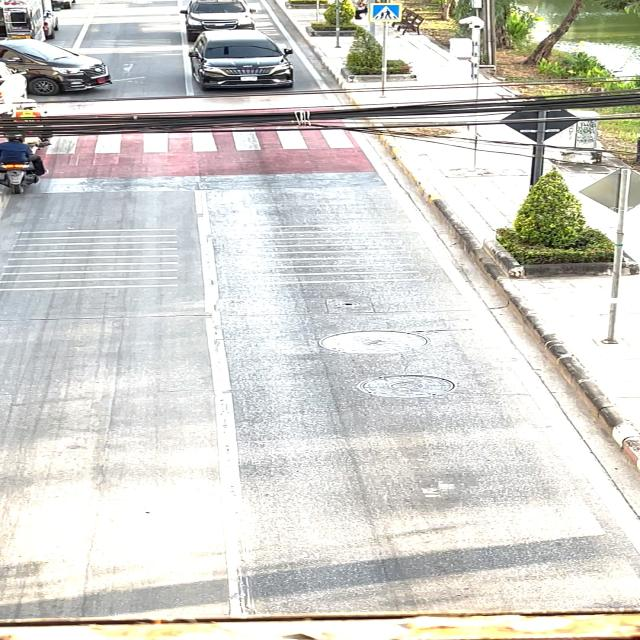car: (184, 20, 300, 102), (160, 0, 278, 48)
